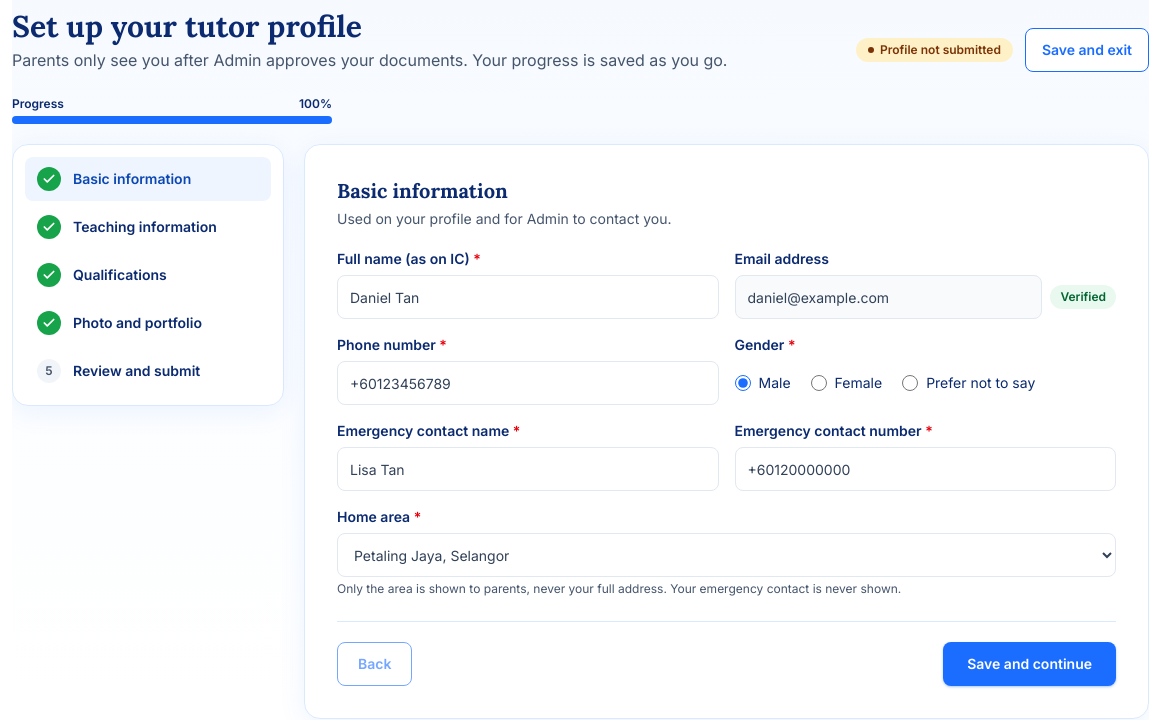
Test case: tutor profile setup: editing and documents › Back keeps what was typed in the step
Replace the text in the field labelled "Emergency contact name *" with "Ahmad Faiz": x=528, y=469 [337,447,718,491]
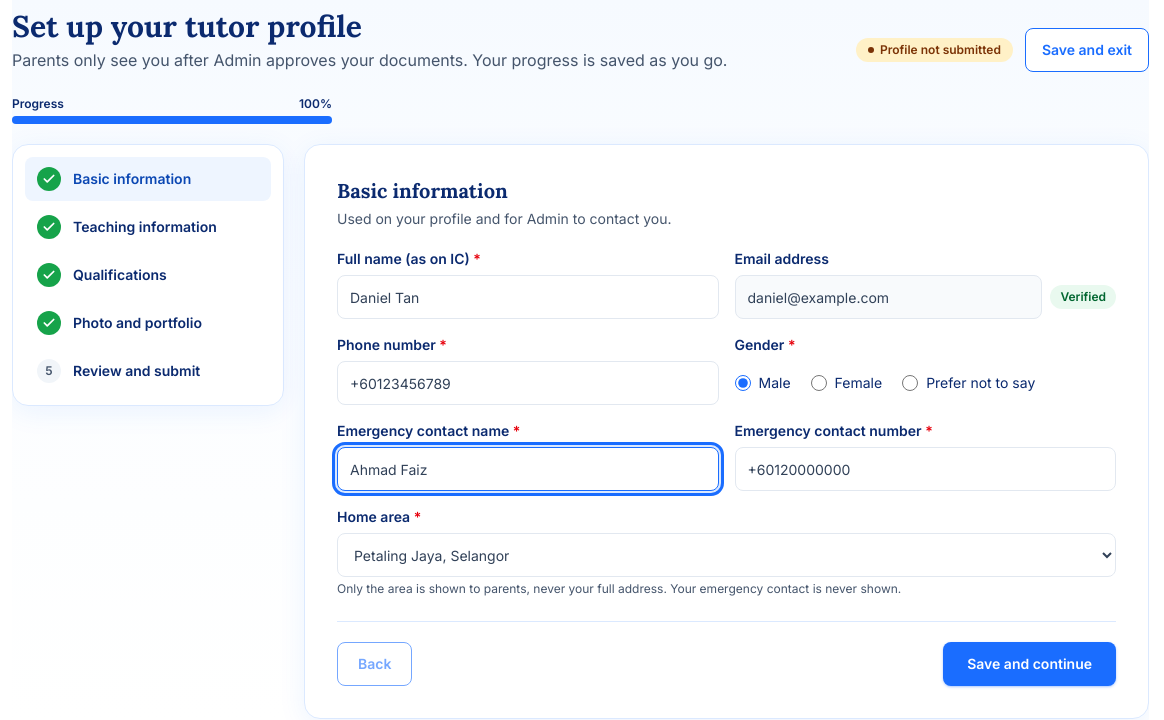
Click the button "Save and continue": x=1030, y=664 [943,642,1116,686]
(page scrolled)
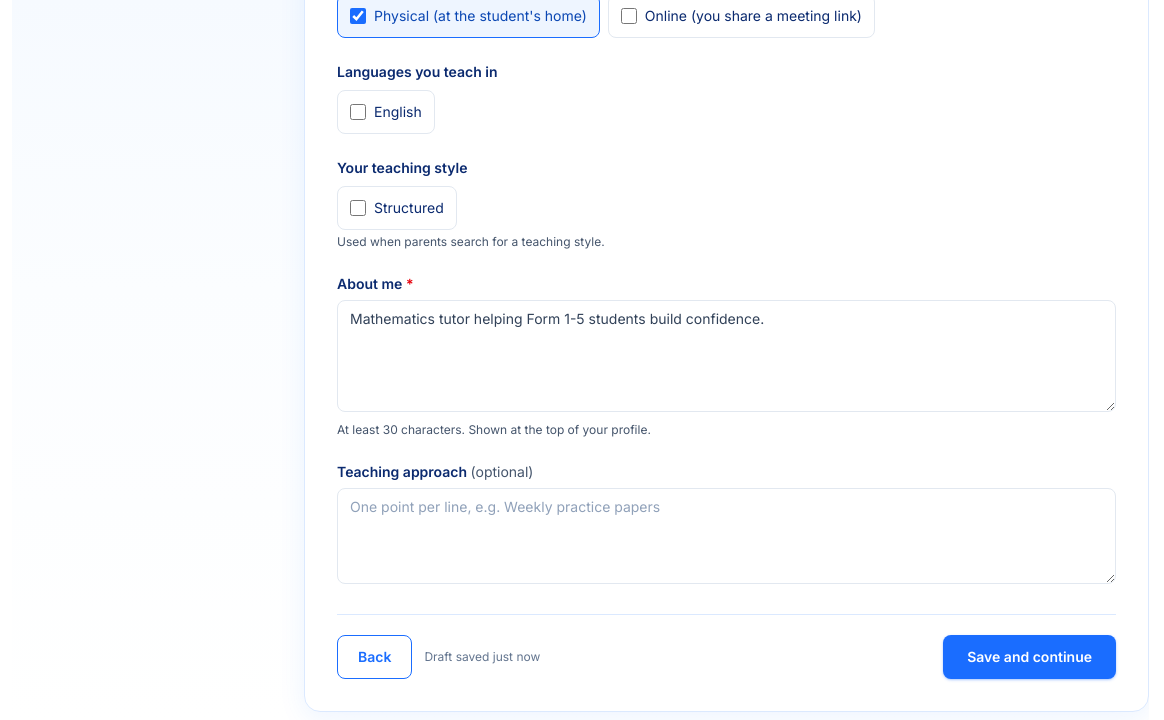
Click the button "Back": x=375, y=657 [337,635,412,679]
(page scrolled)
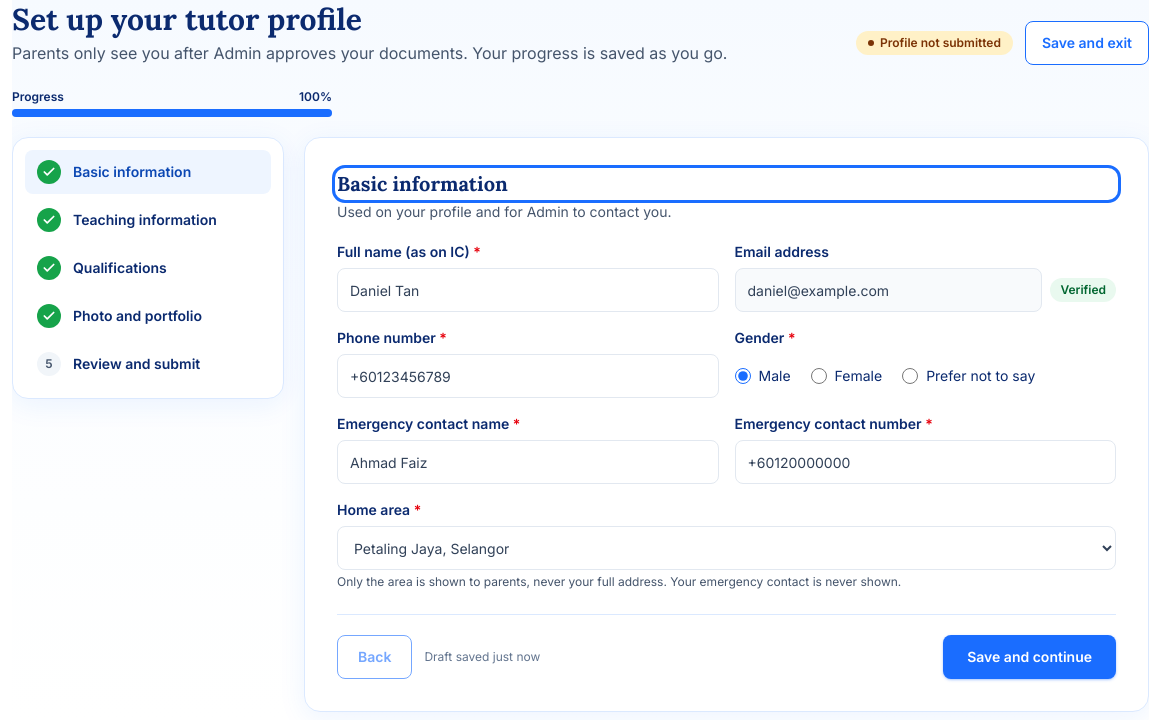
Expected: the field labelled "Emergency contact name *" holds "Ahmad Faiz", [337,440,718,484]
